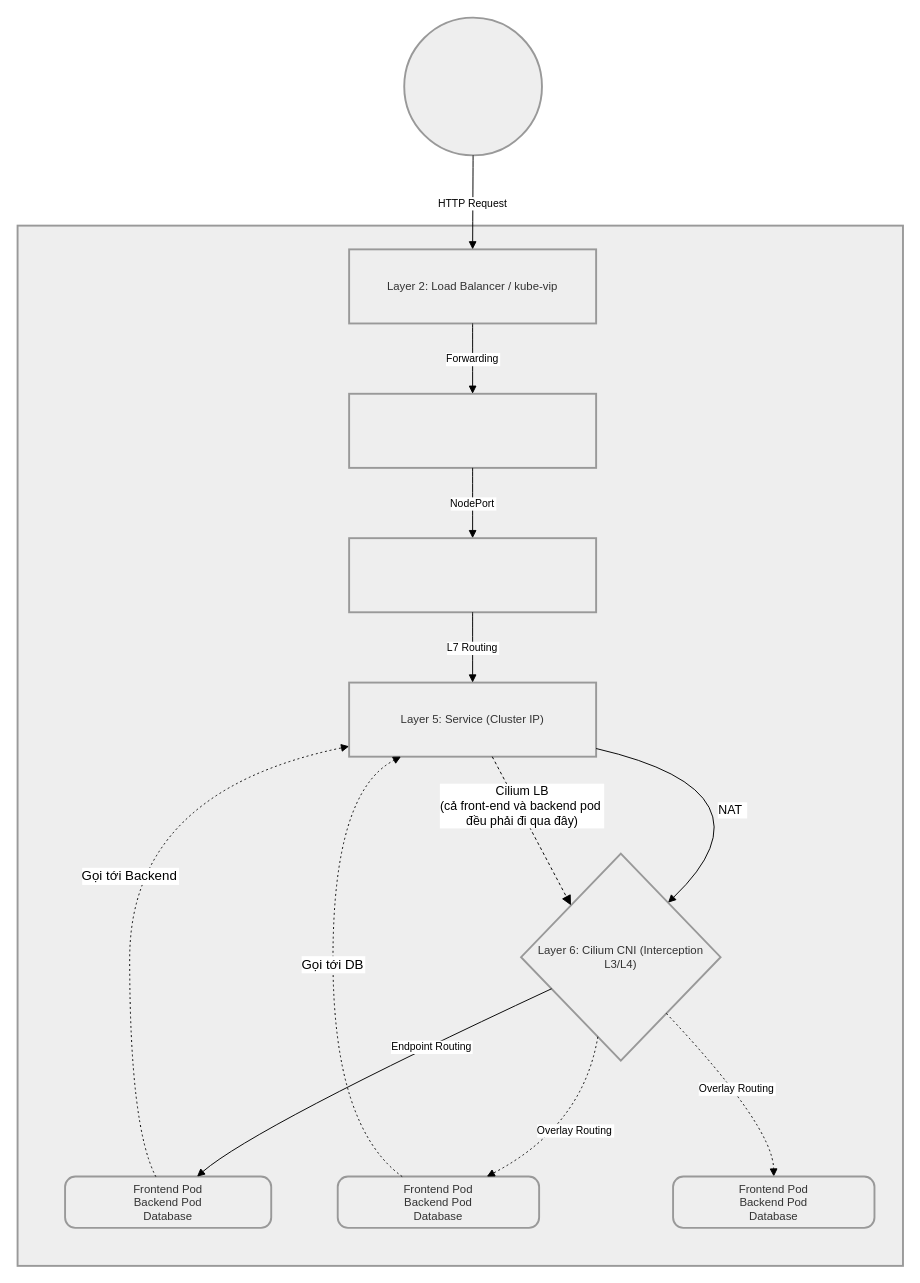
Some shapes in this 920 by 1283 pixel diagram are drawn without their labels. The shapes that lost their labels are listed below. From the top down, each one's centre as x and y in pixels, then its label:
At point (472, 86): "Khách hàng / Web".
At point (472, 430): "Layer 3: vNIC của Worker Node - eth0".
At point (472, 575): "Layer 4: Ingress Controller (Nginx/Cilium Ingress)".
